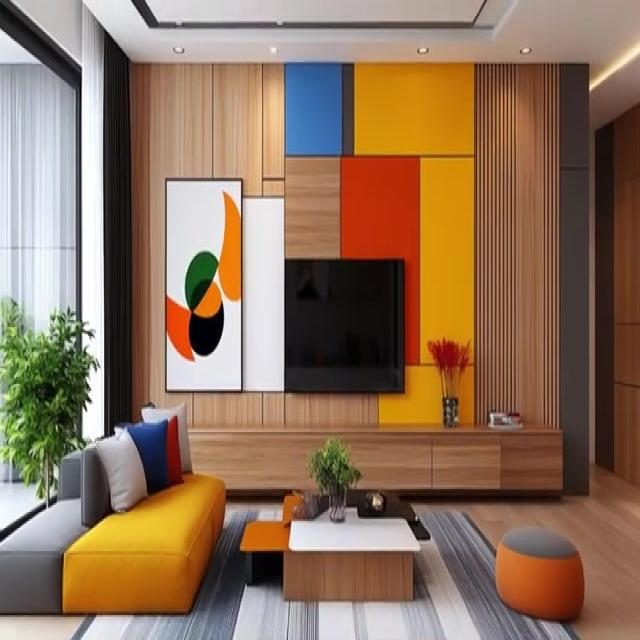obstacle: (0, 407, 226, 615)
